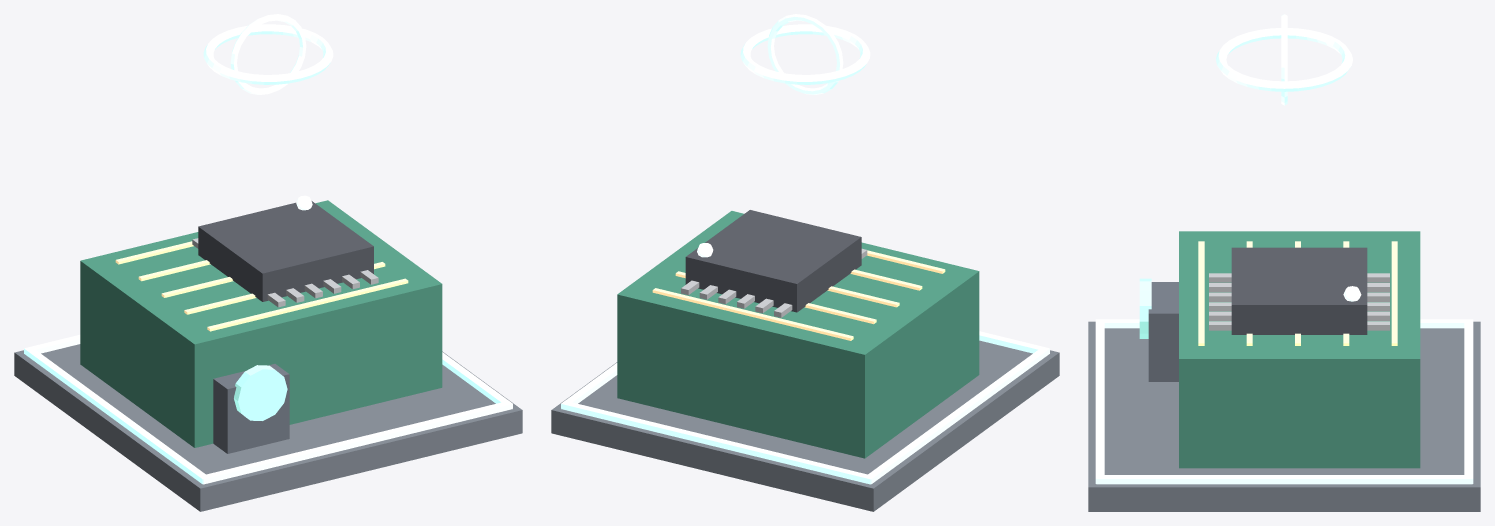
The model's file is packaging_plant.glb.
3 views of the same model, side by side, from view 1: azimuth 30°, elevation 25°; view 2: azimuth 150°, elevation 25°; view 3: azimuth 270°, elevation 25° (orthographic). The views are drawn at different scales.
Parts seen in each view (by area): view 1: Cube.005, Cube, Cube.016, Cube.029, Cube.001, Torus, Cylinder, Cube.002, Torus.001, Cube.006, Cube.004; view 2: Cube.005, Cube, Cube.016, Cube.003, Torus, Cube.002, Torus.001, Cube.014, Cube.004, Cube.001; view 3: Cube.005, Cube, Cube.016, Cube.004, Torus, Cube.029, Cube.001, Cube.003, Cube.002, Cube.006, Cube.014, Cylinder (+1 smaller).
Boxes of the visible parts, x1=… form: Cube.005: x1=80, y1=200, x2=442, y2=447; Cube: x1=14, y1=344, x2=522, y2=511; Cube.016: x1=198, y1=201, x2=373, y2=301; Cube.029: x1=213, y1=364, x2=289, y2=453; Cube.001: x1=199, y1=401, x2=512, y2=484; Torus: x1=203, y1=24, x2=333, y2=84; Cylinder: x1=234, y1=365, x2=287, y2=420; Cube.002: x1=24, y1=347, x2=207, y2=484; Torus.001: x1=230, y1=14, x2=306, y2=94; Cube.006: x1=207, y1=278, x2=408, y2=331; Cube.004: x1=442, y1=352, x2=512, y2=408; Cube.005: x1=617, y1=211, x2=979, y2=458; Cube: x1=551, y1=340, x2=1059, y2=511; Cube.016: x1=685, y1=210, x2=861, y2=312; Cube.003: x1=561, y1=401, x2=871, y2=484; Torus: x1=740, y1=24, x2=870, y2=84; Cube.002: x1=864, y1=347, x2=1049, y2=484; Torus.001: x1=767, y1=14, x2=843, y2=94; Cube.014: x1=652, y1=288, x2=853, y2=340; Cube.004: x1=561, y1=363, x2=617, y2=408; Cube.001: x1=979, y1=331, x2=1049, y2=353; Cube.005: x1=1179, y1=231, x2=1420, y2=468; Cube: x1=1088, y1=321, x2=1480, y2=511; Cube.016: x1=1231, y1=247, x2=1367, y2=334; Cube.004: x1=1096, y1=475, x2=1472, y2=484; Torus: x1=1216, y1=28, x2=1352, y2=91; Cube.029: x1=1148, y1=282, x2=1178, y2=381; Cube.001: x1=1095, y1=319, x2=1104, y2=483; Cube.003: x1=1464, y1=319, x2=1473, y2=483; Cube.002: x1=1096, y1=319, x2=1472, y2=328; Cube.006: x1=1198, y1=241, x2=1204, y2=345; Cube.014: x1=1391, y1=241, x2=1397, y2=345; Cylinder: x1=1139, y1=278, x2=1151, y2=338.
Bounding box in the file's own units: 2.6 × 3.01 × 2.6.
